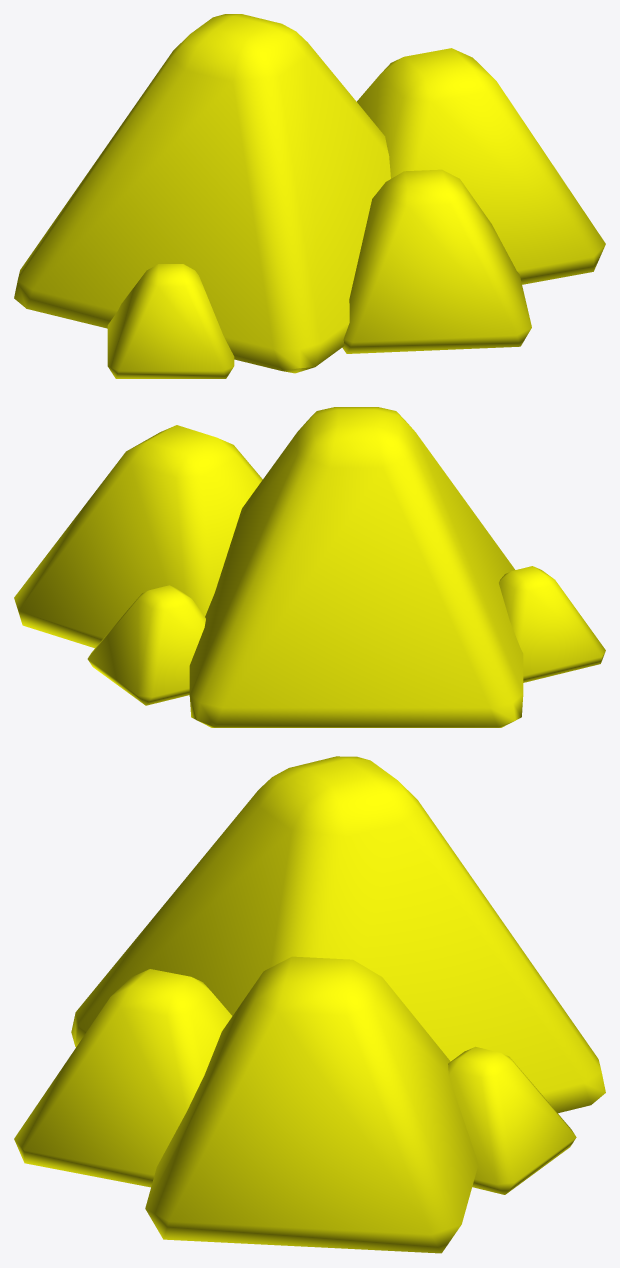
The model's file is kaykit-bush-4-e-color-1.glb.
The picture shows the model from 3 angles, top to bottom: view 1: azimuth 30°, elevation 25°; view 2: azimuth 150°, elevation 25°; view 3: azimuth 270°, elevation 25°; orthographic projection. The views are drawn at different scales.
Parts seen in each view (by area): view 1: Bush_4_E_Color1; view 2: Bush_4_E_Color1; view 3: Bush_4_E_Color1.
Part boxes in pixels (left/top/right/bottom): Bush_4_E_Color1: left=14, top=14, right=605, bottom=378; Bush_4_E_Color1: left=14, top=407, right=605, bottom=727; Bush_4_E_Color1: left=14, top=756, right=605, bottom=1253.
Size of the model in its own units: 2.7 by 1.3 by 2.28.
